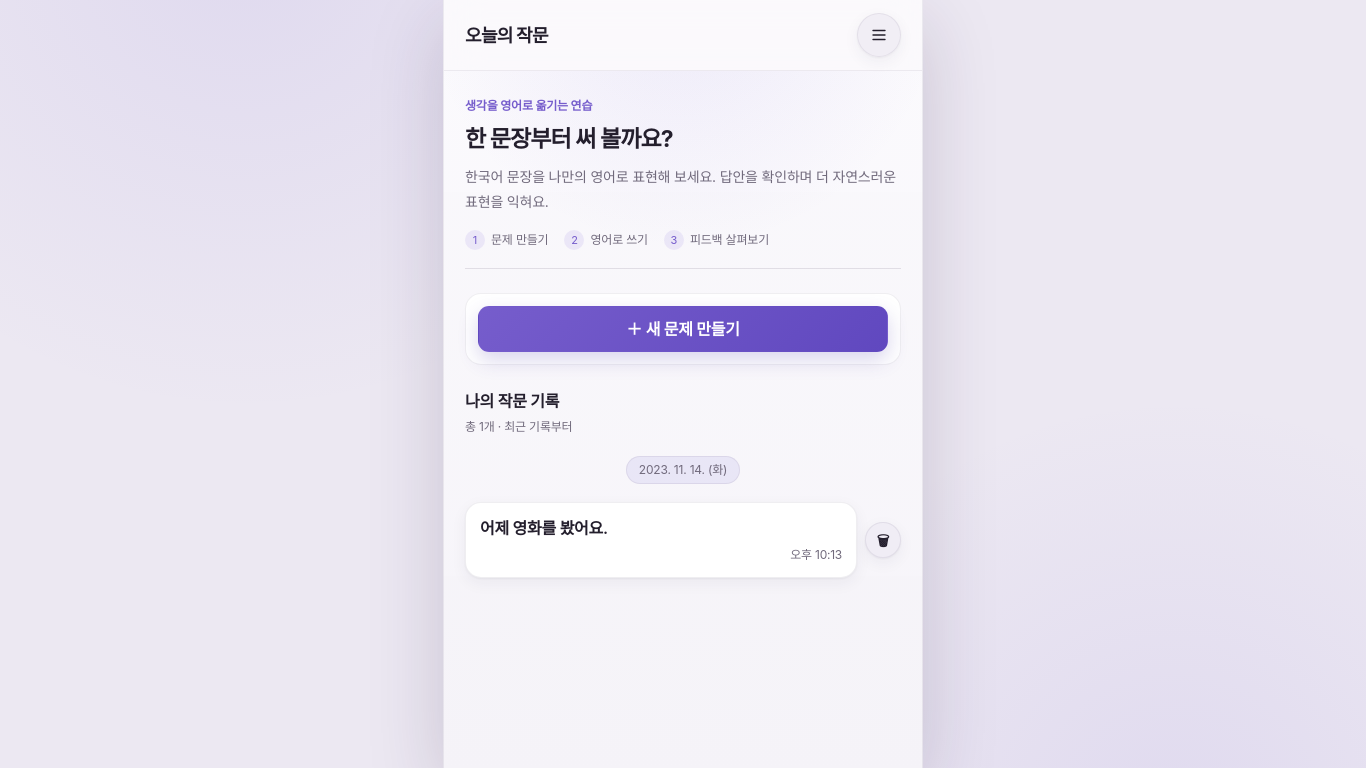
Test: Writing page list/detail flow › starts on a list and opens the selected problem as a detail view
Expected: the heading "한 문장부터 써 볼까요?" is shown, [465,125,673,153]
Expected: the button "＋ 새 문제 만들기" is enabled, [478,306,888,352]
Click the button "어제 영화를 봤어요. 오후 10:13": (544, 528) [465,502,857,578]
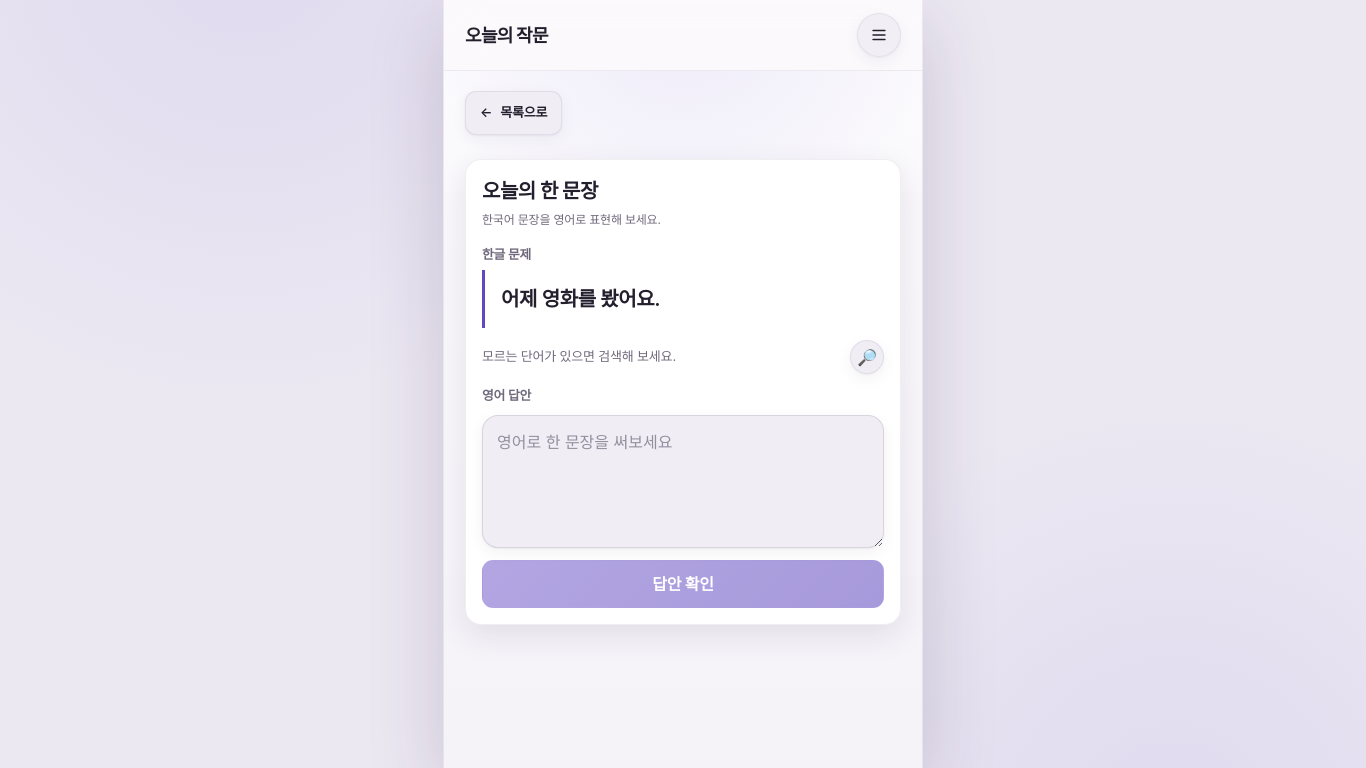
Result: the text box labelled "영어 답안" is shown at [482,415,884,548]
Result: the heading "한 문장부터 써 볼까요?" is gone
Result: the button "새 문제 만들기" is gone
Click the button "← 목록으로": (514, 113) [465,91,562,135]
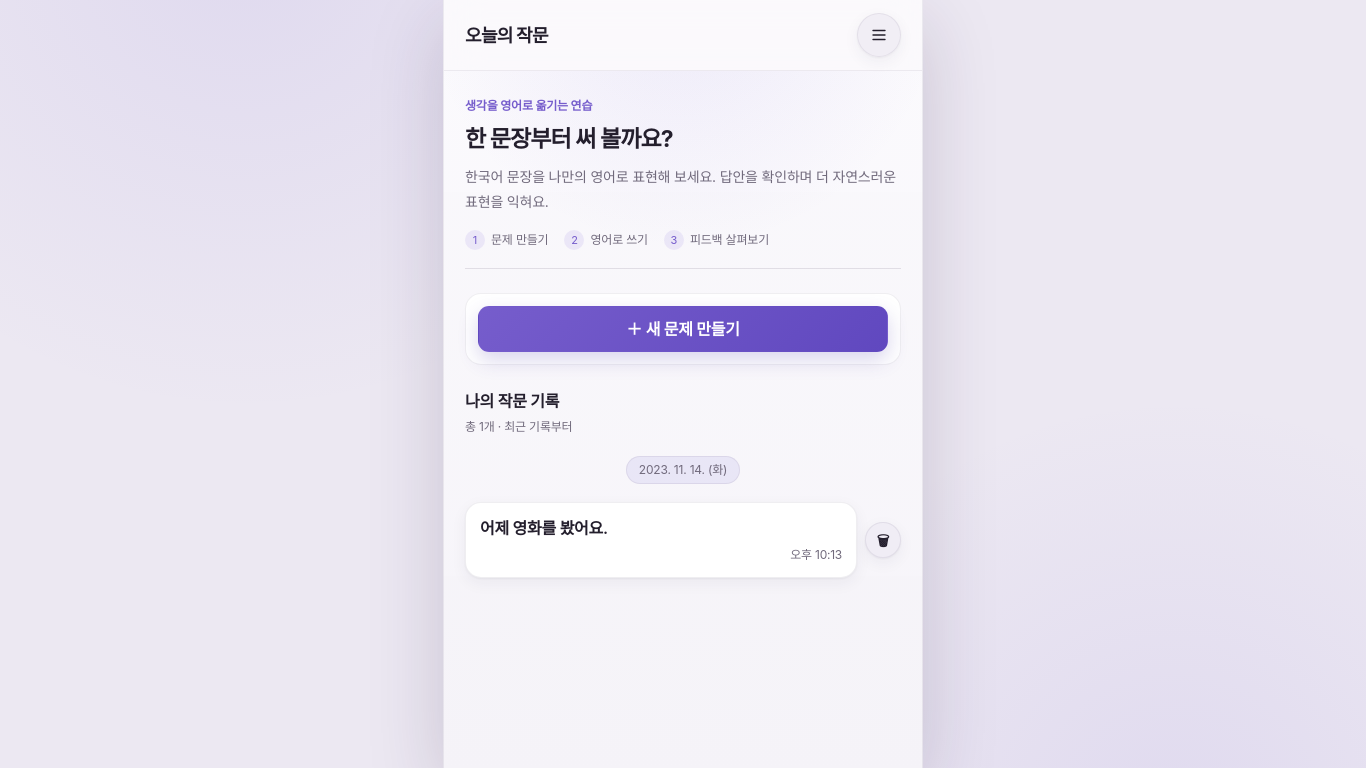
Expected: the number of headers is 1, [444,0,922,71]
Result: the button "어제 영화를 봤어요. 오후 10:13" is enabled at [465,502,857,578]
Result: the heading "오늘의 한 문장" is gone
